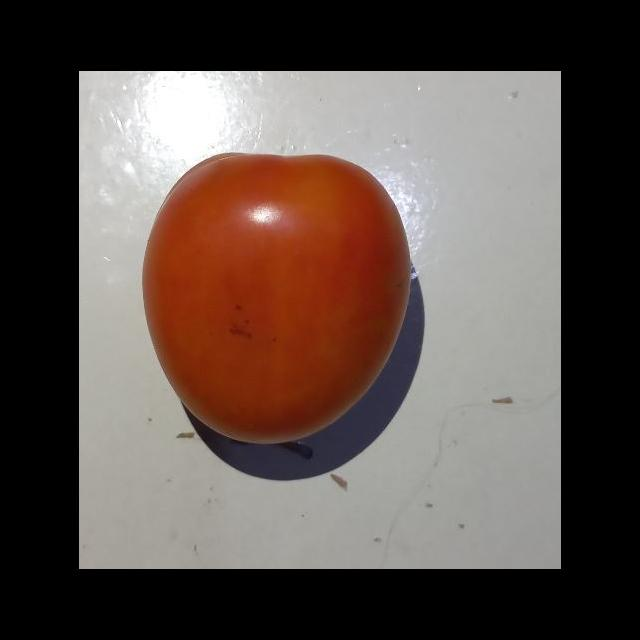tomato: (137, 147, 417, 451)
